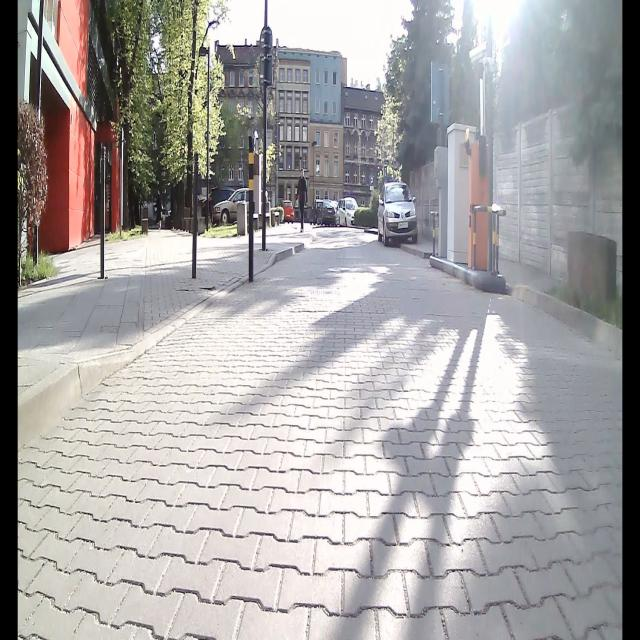bollards: (190, 150, 199, 280), (248, 133, 255, 288), (99, 144, 107, 279)
car: (374, 178, 422, 248)
person: (292, 165, 310, 235)
